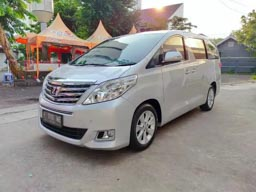plat: (40, 110, 63, 130)
